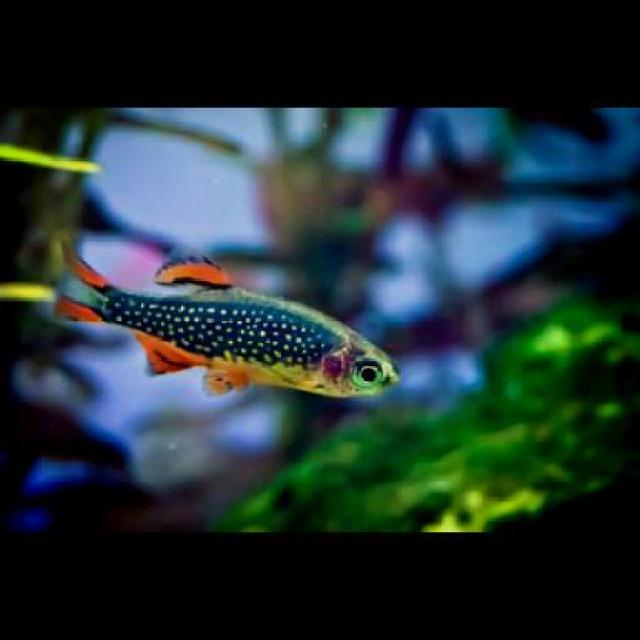ZebraFish: (48, 243, 402, 397)
